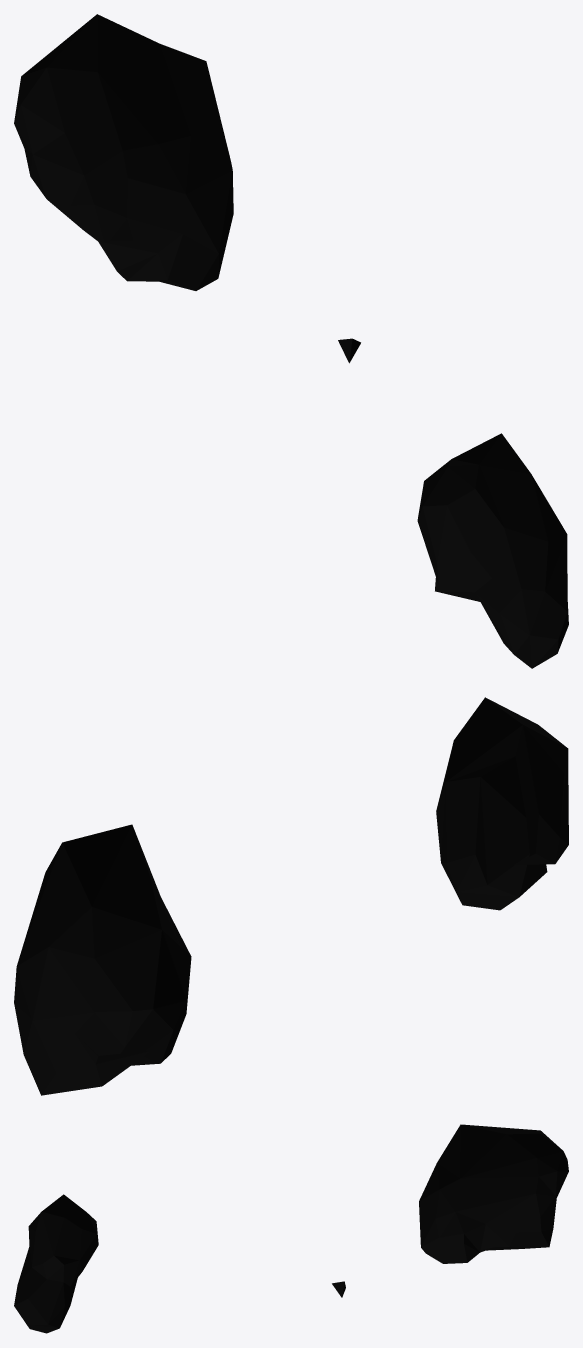
3 views of the same model, one above another, from view 1: azimuth 30°, elevation 25°; view 2: azimuth 150°, elevation 25°; view 3: azimuth 270°, elevation 25° (orthographic). The views are drawn at different scales.
Size of the model in its own units: 0.5167 by 1 by 2.52.
Materials: 1 (1 with a texture image).
